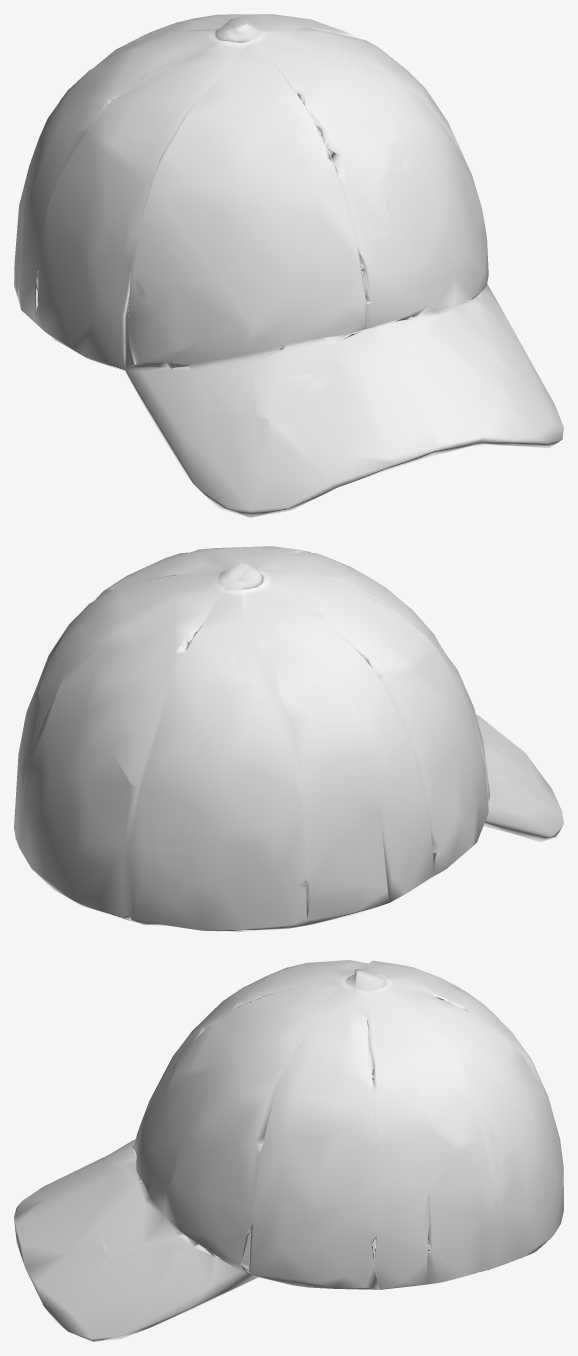
Rendered from cap.glb.
The picture shows the model from 3 angles, top to bottom: view 1: azimuth 30°, elevation 25°; view 2: azimuth 150°, elevation 25°; view 3: azimuth 270°, elevation 25°; orthographic projection. The views are drawn at different scales.
Visible parts, largest first — view 1: cap; view 2: cap; view 3: cap.
Boxes of the visible parts, x1=… form: cap: x1=14, y1=14, x2=563, y2=517; cap: x1=14, y1=546, x2=563, y2=931; cap: x1=14, y1=960, x2=563, y2=1341.
Bounding box in the file's own units: 0.7479 × 0.5992 × 0.9982.
1 material, 1 textured.
